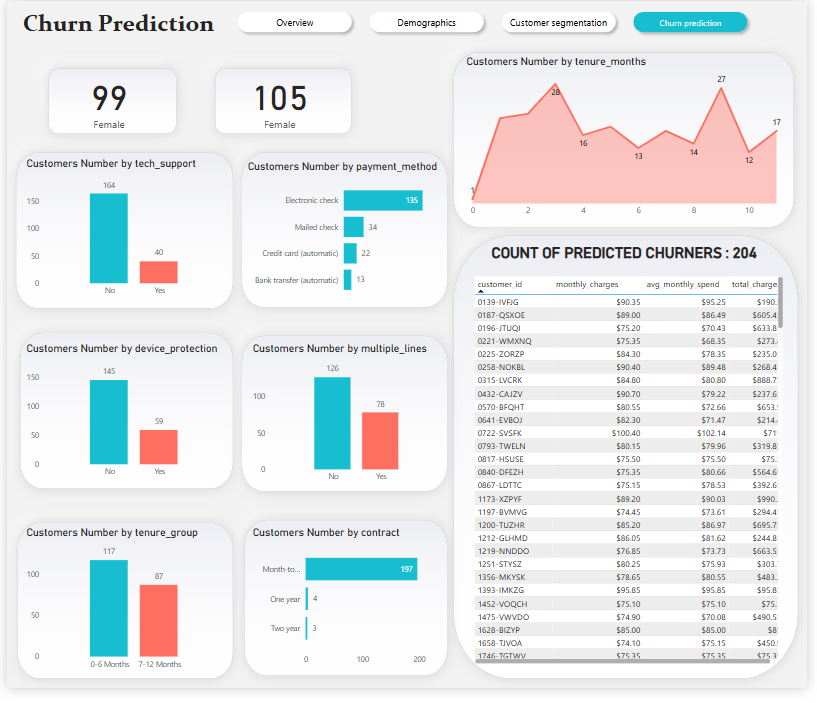

Layout of this report page (visuals, bound fields, positions):
{"tool":"powerbi","page":{"name":"Churn prediction","canvas":[1280,1100],"ordinal":3},"visuals":[{"type":"tableEx","fields":{"Values":["Predicted_churners.customer_id","Predicted_churners.monthly_charges","Predicted_churners.avg_monthly_spend","Predicted_churners.total_charges"]},"box":[741.7,435,505,630],"z":0},{"type":"card","fields":{"Values":["Predicted_churners.Title Predicted Churner"]},"box":[756.7,381.7,463.3,41.7],"z":1000},{"type":"card","fields":{"Values":["Predicted_churners.Count Predicted Churner"]},"box":[56.7,98.3,215,121.7],"z":2000},{"type":"card","fields":{"Values":["Predicted_churners.Count Predicted Churner"]},"box":[333.3,98.3,205,121.7],"z":3000},{"type":"lineChart","fields":{"Category":["Predicted_churners.tenure_months"],"Y":["CountNonNull(Predicted_churners.customer_id)"]},"box":[730,86.4,516.4,268.2],"z":4000},{"type":"clusteredColumnChart","fields":{"Y":["CountNonNull(Predicted_churners.customer_id)"],"Category":["Predicted_churners.tech_support"]},"box":[25.5,250,327.3,231.8],"z":5000},{"type":"clusteredColumnChart","fields":{"Y":["CountNonNull(Predicted_churners.customer_id)"],"Category":["Predicted_churners.tenure_group"]},"box":[25.5,840,327.3,239.1],"z":6000},{"type":"clusteredBarChart","fields":{"Category":["Predicted_churners.contract"],"Y":["CountNonNull(Predicted_churners.customer_id)"]},"box":[387.3,840,308.2,231.8],"z":7000},{"type":"clusteredBarChart","fields":{"Category":["Predicted_churners.payment_method"],"Y":["CountNonNull(Predicted_churners.customer_id)"]},"box":[380,253.6,315.5,231.8],"z":8000},{"type":"clusteredColumnChart","fields":{"Y":["CountNonNull(Predicted_churners.customer_id)"],"Category":["Predicted_churners.multiple_lines"]},"box":[387.3,546.4,315.5,233.6],"z":9000},{"type":"clusteredColumnChart","fields":{"Y":["CountNonNull(Predicted_churners.customer_id)"],"Category":["Predicted_churners.device_protection"]},"box":[25.5,546.4,327.3,225.5],"z":10000},{"type":"textbox","box":[20,8.6,332.9,67.1],"z":11000},{"type":"pageNavigator","box":[360,8.6,837.1,51.4],"z":12000}]}

Visuals, with their boxes in screenshot pixels (x1, y1, x2, y2), scaled from the page's 1280x1100 canvas onto the 817x703 screenshot:
tableEx - Predicted_churners.customer_id x Predicted_churners.monthly_charges: rect(473, 278, 796, 681)
card - Predicted_churners.Title Predicted Churner: rect(483, 244, 779, 271)
card - Predicted_churners.Count Predicted Churner: rect(36, 63, 173, 141)
card - Predicted_churners.Count Predicted Churner: rect(213, 63, 344, 141)
lineChart - Predicted_churners.tenure_months x CountNonNull(Predicted_churners.customer_id): rect(466, 55, 796, 227)
clusteredColumnChart - CountNonNull(Predicted_churners.customer_id) x Predicted_churners.tech_support: rect(16, 160, 225, 308)
clusteredColumnChart - CountNonNull(Predicted_churners.customer_id) x Predicted_churners.tenure_group: rect(16, 537, 225, 690)
clusteredBarChart - Predicted_churners.contract x CountNonNull(Predicted_churners.customer_id): rect(247, 537, 444, 685)
clusteredBarChart - Predicted_churners.payment_method x CountNonNull(Predicted_churners.customer_id): rect(243, 162, 444, 310)
clusteredColumnChart - CountNonNull(Predicted_churners.customer_id) x Predicted_churners.multiple_lines: rect(247, 349, 449, 498)
clusteredColumnChart - CountNonNull(Predicted_churners.customer_id) x Predicted_churners.device_protection: rect(16, 349, 225, 493)
textbox: rect(13, 5, 225, 48)
pageNavigator: rect(230, 5, 764, 38)
